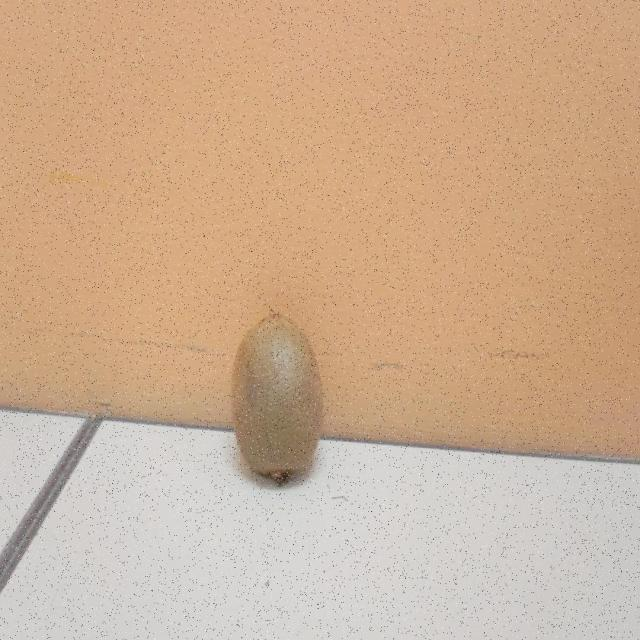Kiwi: (230, 312, 323, 491)
